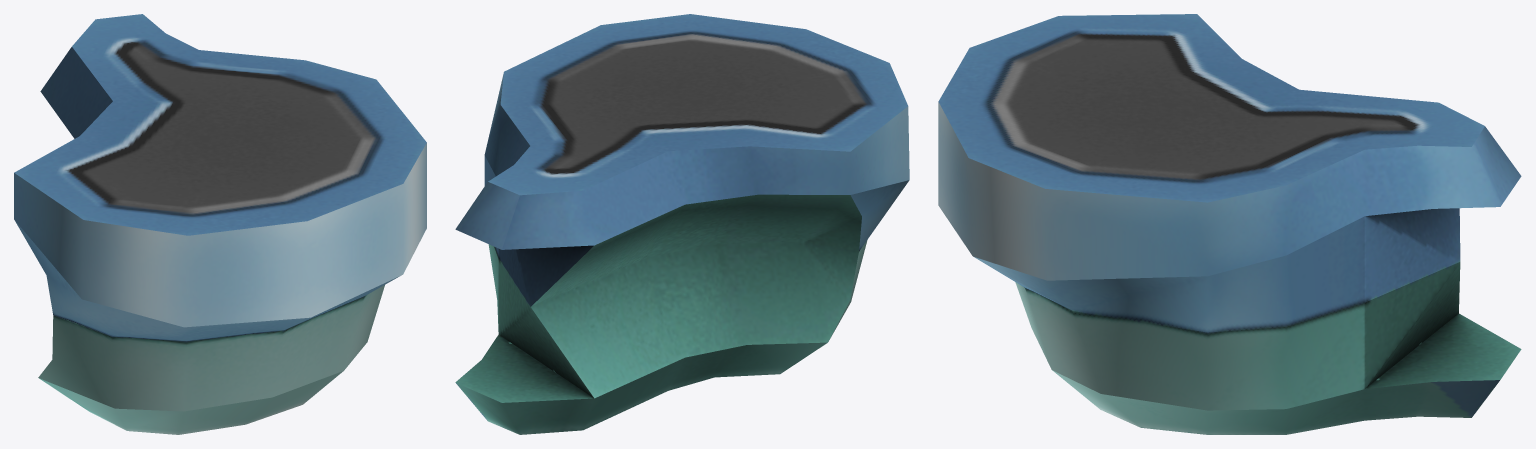
Rendered from Thigh_Right.obj.
3 views of the same model, side by side, from view 1: azimuth 30°, elevation 25°; view 2: azimuth 150°, elevation 25°; view 3: azimuth 270°, elevation 25° (orthographic). The views are drawn at different scales.
Parts seen in each view (by area): view 1: Thigh_Right; view 2: Thigh_Right; view 3: Thigh_Right.
Part boxes in pixels (x1,y1,x2,y2): Thigh_Right: (14,14,426,434); Thigh_Right: (455,14,909,434); Thigh_Right: (938,14,1521,434).
Bounding box in the file's own units: 0.2013 × 0.1348 × 0.263.
1 material, 1 textured.
